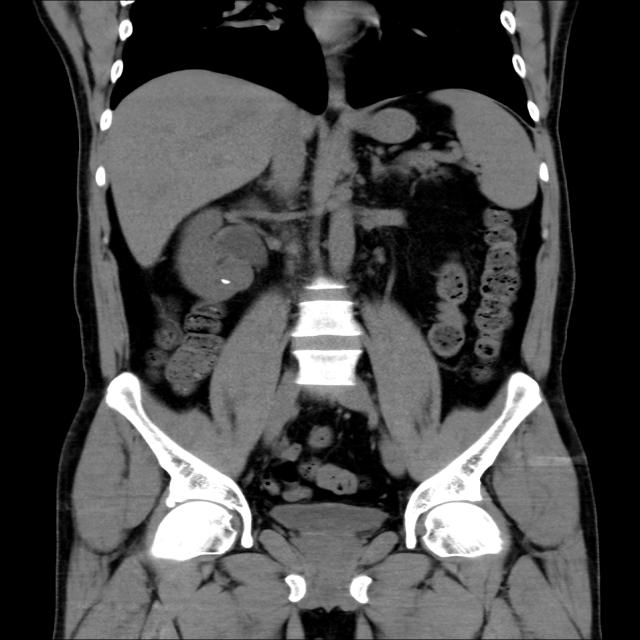kidneystone: (221, 279, 232, 284)
